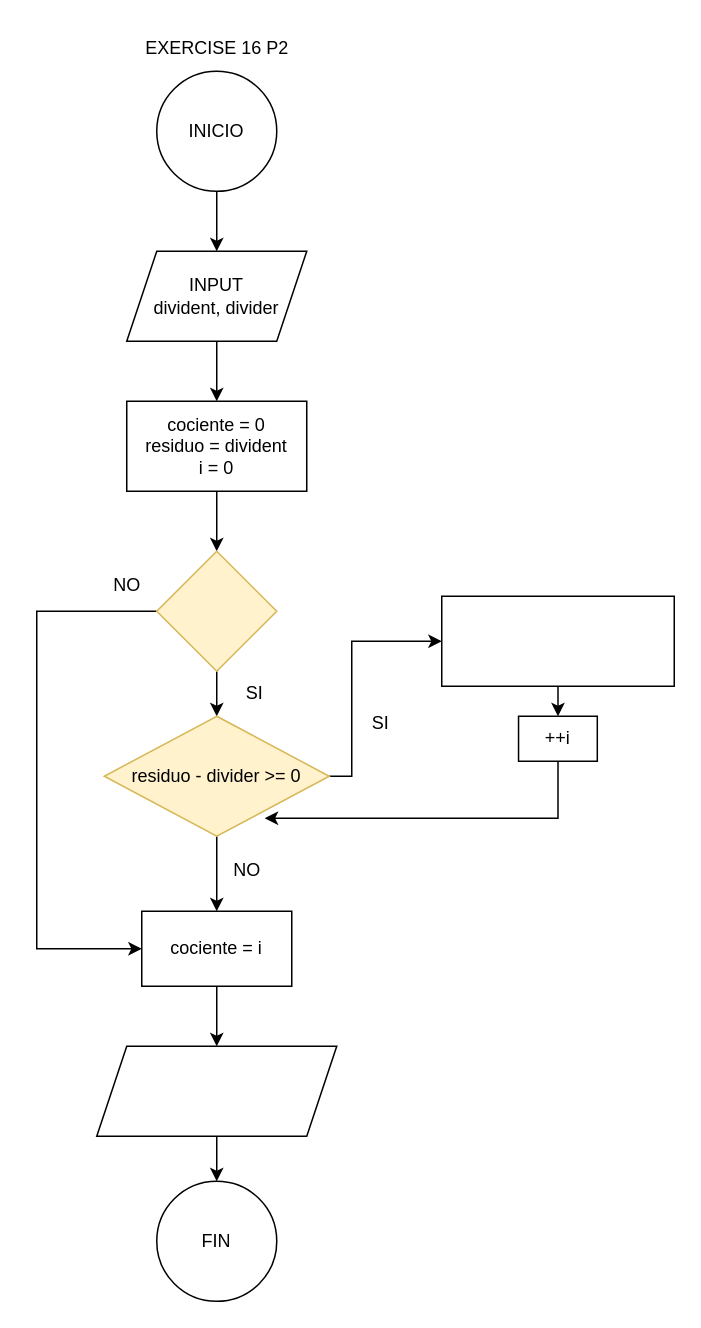
This 701x1328 diagram has some shape labels left out. The centre of each missing label's shape, as x and y in pixels:
cociente, " ", residuo: (216,1090)
divider != 0: (216,610)
residuo = residuo - divider: (557,640)
